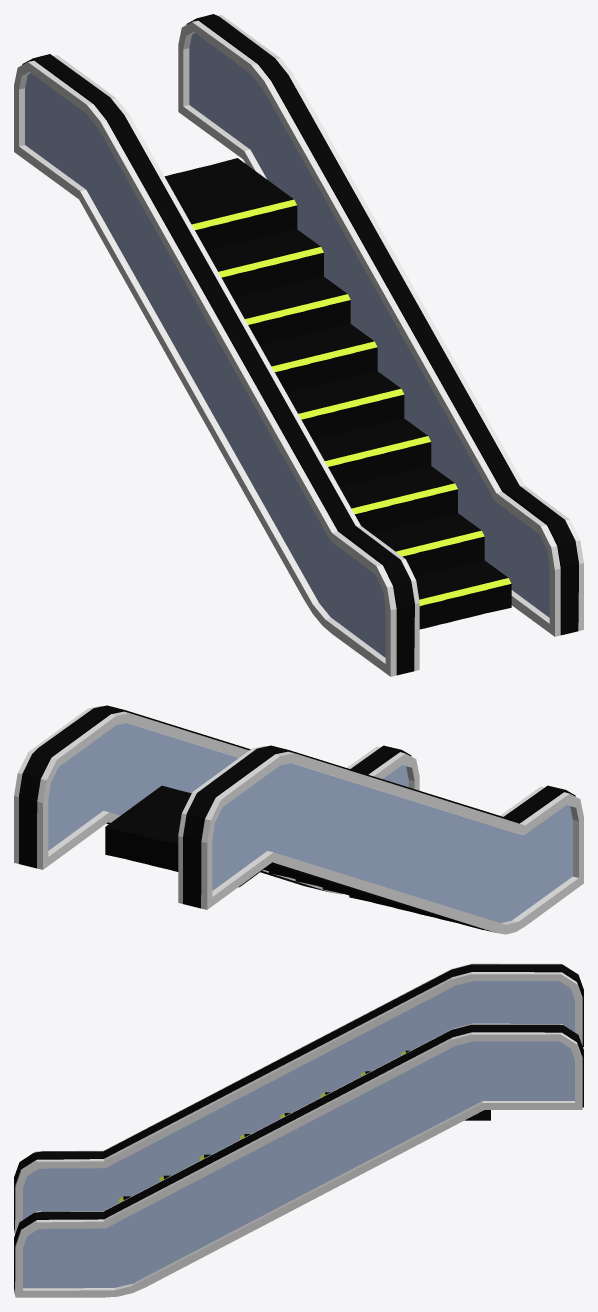
File: escalator_improved.fbx
3 renders of one model, top to bottom at view 1: azimuth 30°, elevation 25°; view 2: azimuth 150°, elevation 25°; view 3: azimuth 270°, elevation 25°, orthographic. The views are drawn at different scales.
Visible parts, largest first — view 1: Cube.002; view 2: Cube.002; view 3: Cube.002.
Part boxes in pixels (x1=…): Cube.002: x1=14, y1=14, x2=583, y2=676; Cube.002: x1=14, y1=705, x2=583, y2=934; Cube.002: x1=14, y1=963, x2=583, y2=1297.
Bounding box in the file's own units: 400 × 699 × 1358.
